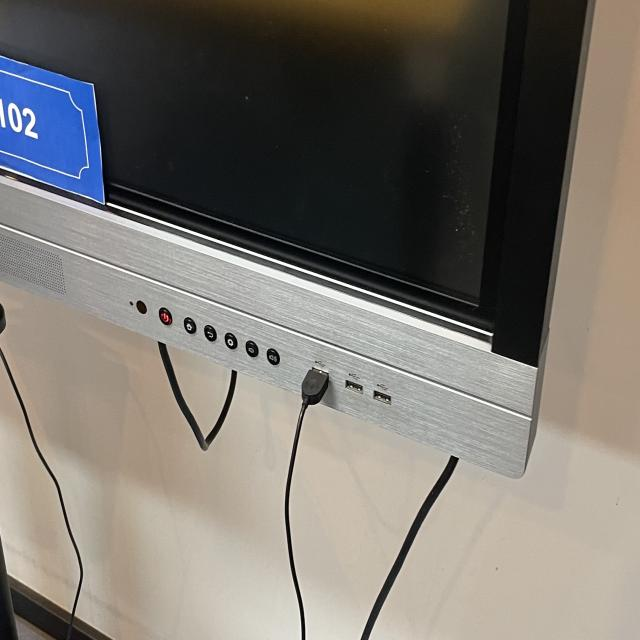Card: (0, 17, 112, 220)
